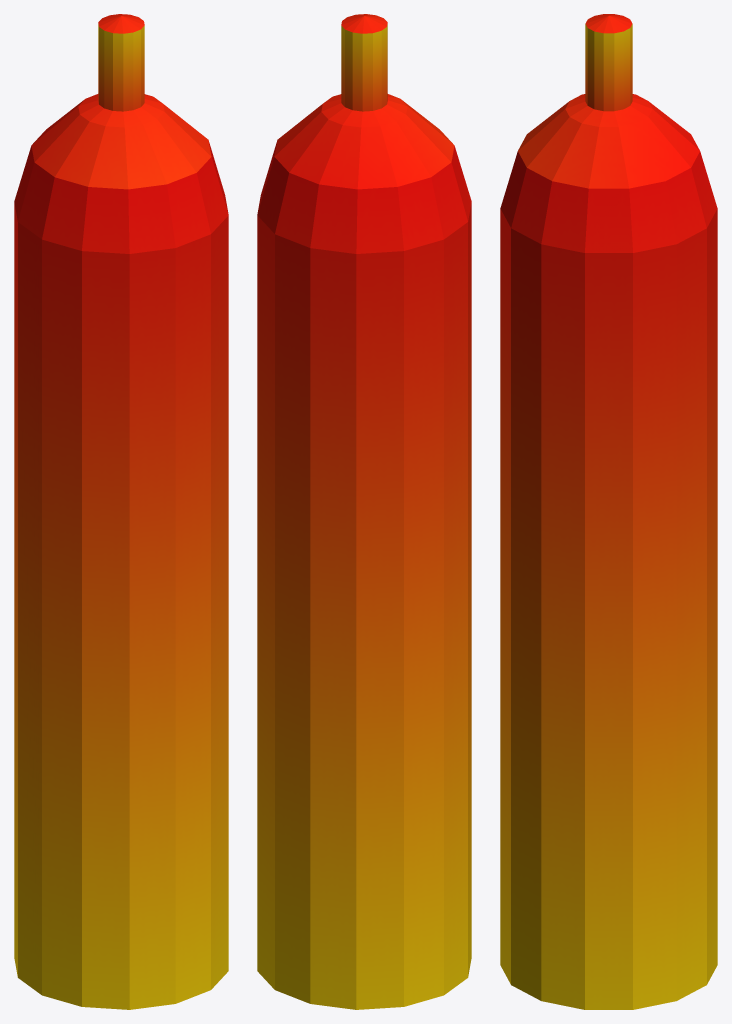
The model's file is gas_bottle.glb.
3 views of the same model, side by side, from view 1: azimuth 30°, elevation 25°; view 2: azimuth 150°, elevation 25°; view 3: azimuth 270°, elevation 25° (orthographic).
Parts seen in each view (by area): view 1: gas_bottle; view 2: gas_bottle; view 3: gas_bottle.
Boxes of the visible parts, <box> form: gas_bottle: <box>14,14,228,1009</box>; gas_bottle: <box>257,14,471,1009</box>; gas_bottle: <box>500,14,717,1009</box>.
Bounding box in the file's own units: 0.3329 × 1.65 × 0.3415.
Materials: 1 (1 with a texture image).
